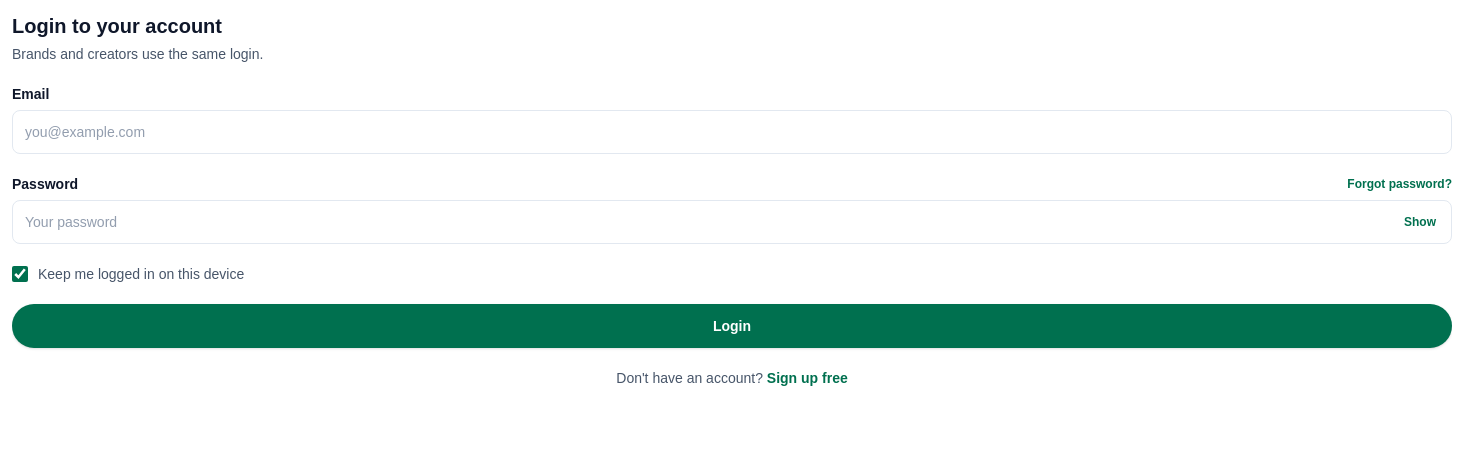
Test: SignInForm › shows a clear message for {"kind":"rate_limited","retryAfterSeconds":null}
In the field labelled "Email": (732, 132) top-left (12, 110), bottom-right (1452, 154), type "me@example.com"
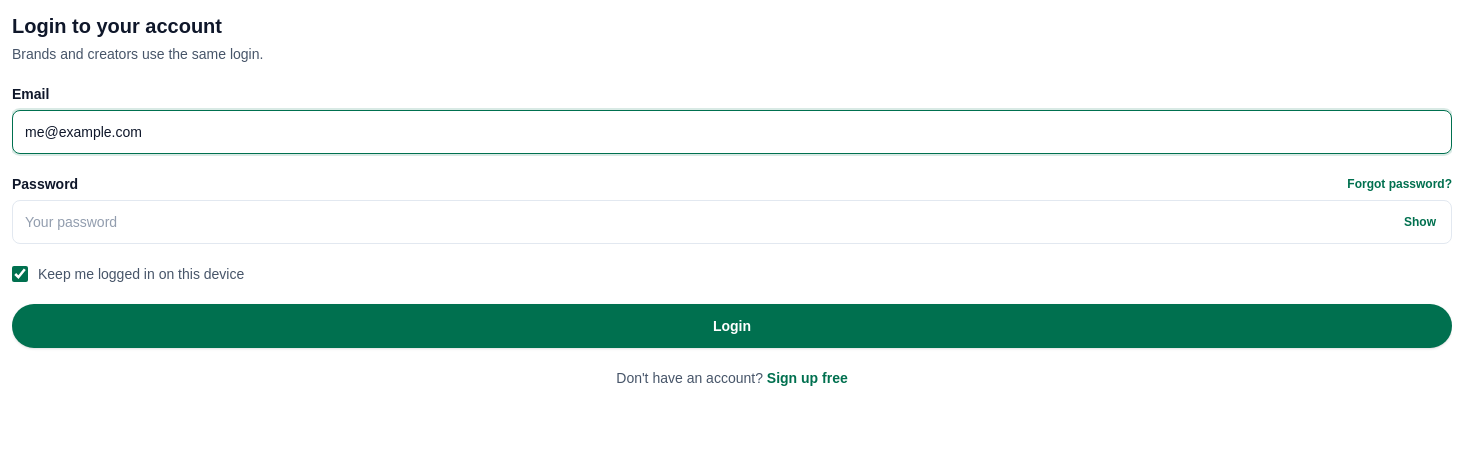
In the password field labelled "Password": (732, 222) top-left (12, 200), bottom-right (1452, 244), type "Passw0rdtest"
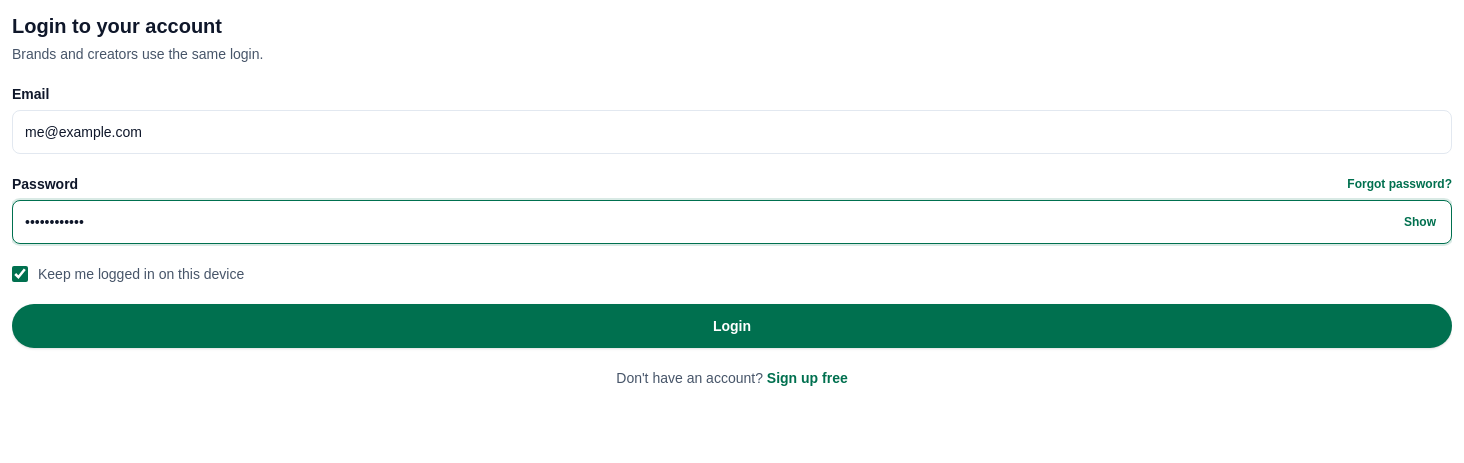
Click the button "Login": (732, 326) top-left (12, 304), bottom-right (1452, 348)
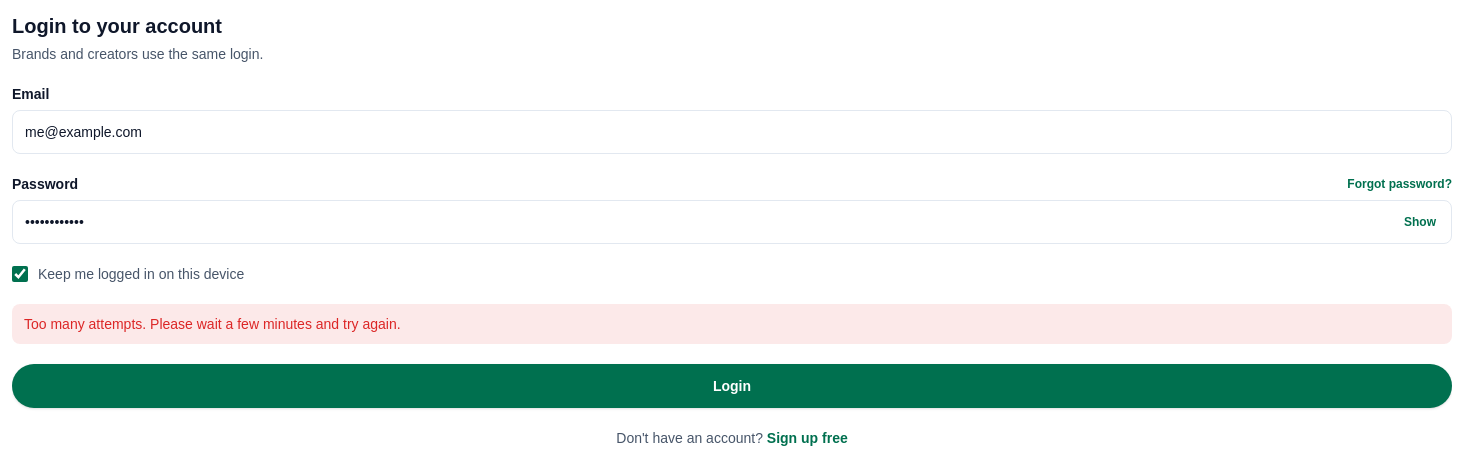
Expected: the message shows "Too many attempts", top-left (24, 316), bottom-right (401, 332)
